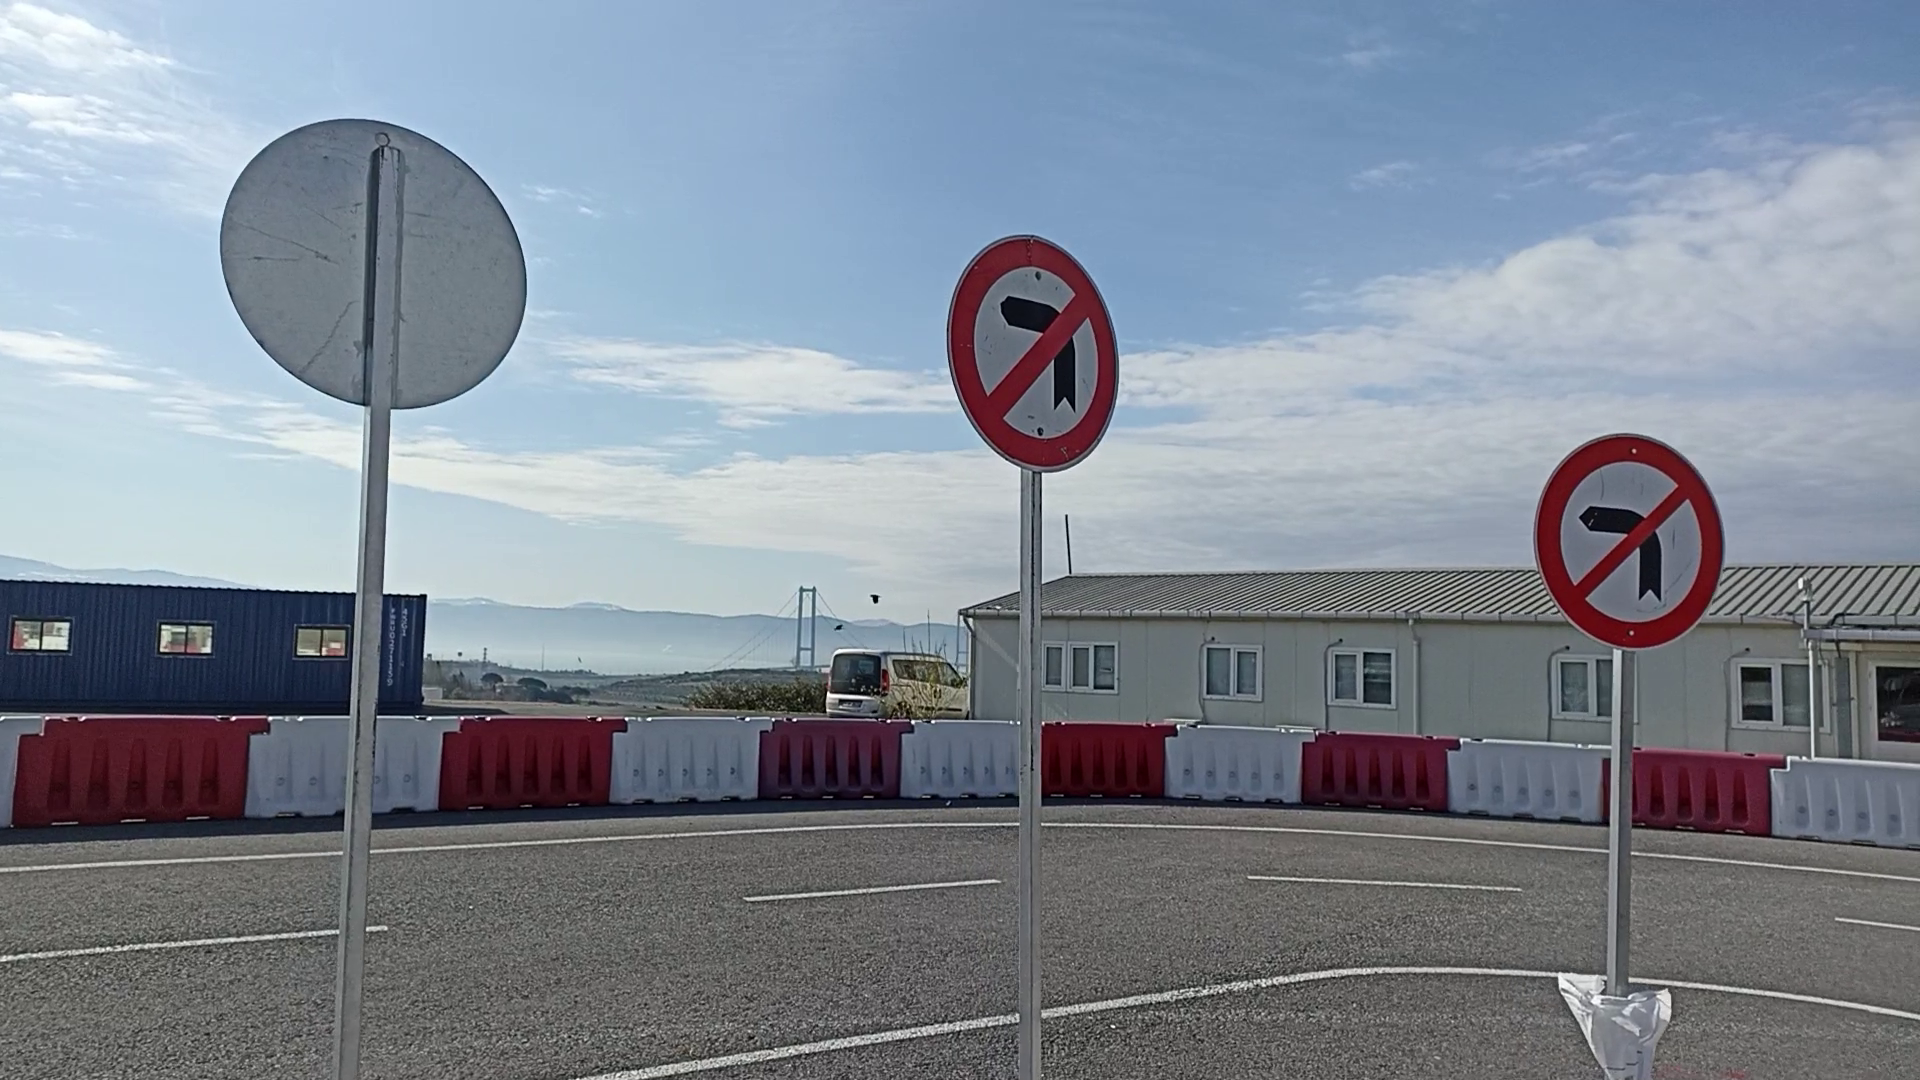noleft: (1528, 430, 1731, 657), (945, 229, 1125, 476)
